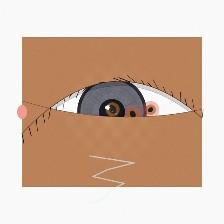foreign_body_visible: (114, 99, 151, 129)
